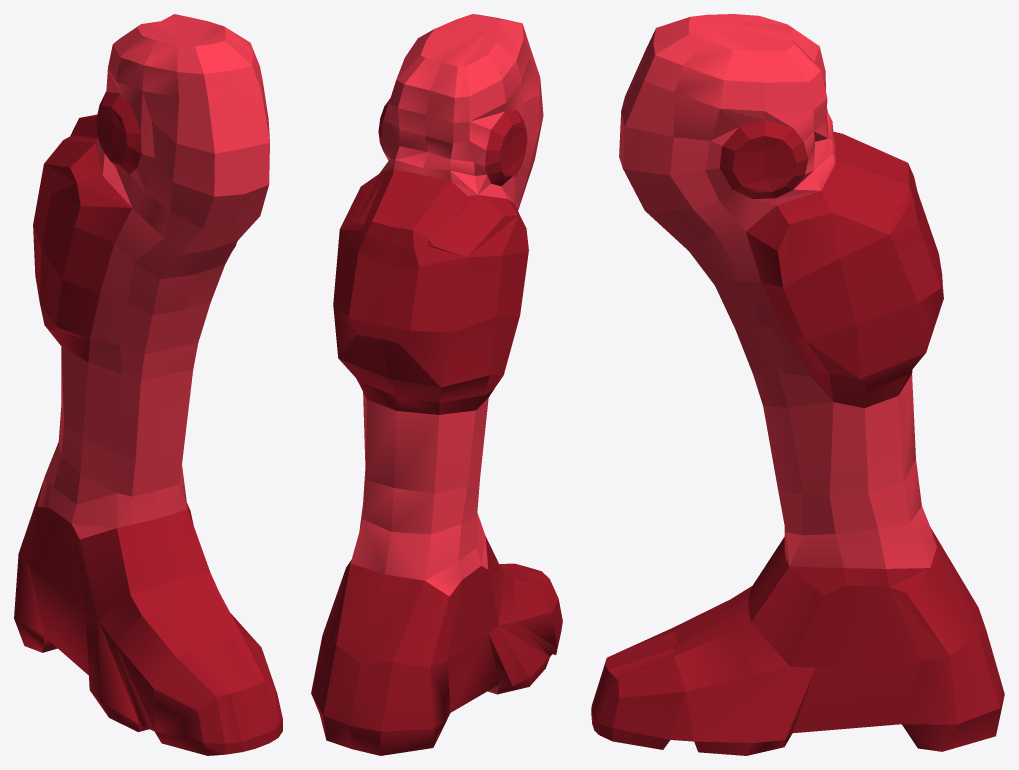
Rendered from left_calf.fbx.
3 views of the same model, side by side, from view 1: azimuth 30°, elevation 25°; view 2: azimuth 150°, elevation 25°; view 3: azimuth 270°, elevation 25° (orthographic). The views are drawn at different scales.
Visible parts, largest first — view 1: left_calf; view 2: left_calf; view 3: left_calf.
Boxes of the visible parts, x1,y1,x2,y2 form: left_calf: (14, 14, 282, 755); left_calf: (311, 14, 562, 755); left_calf: (591, 14, 1004, 755).
Size of the model in its own units: 0.1848 by 0.6857 by 0.364.
